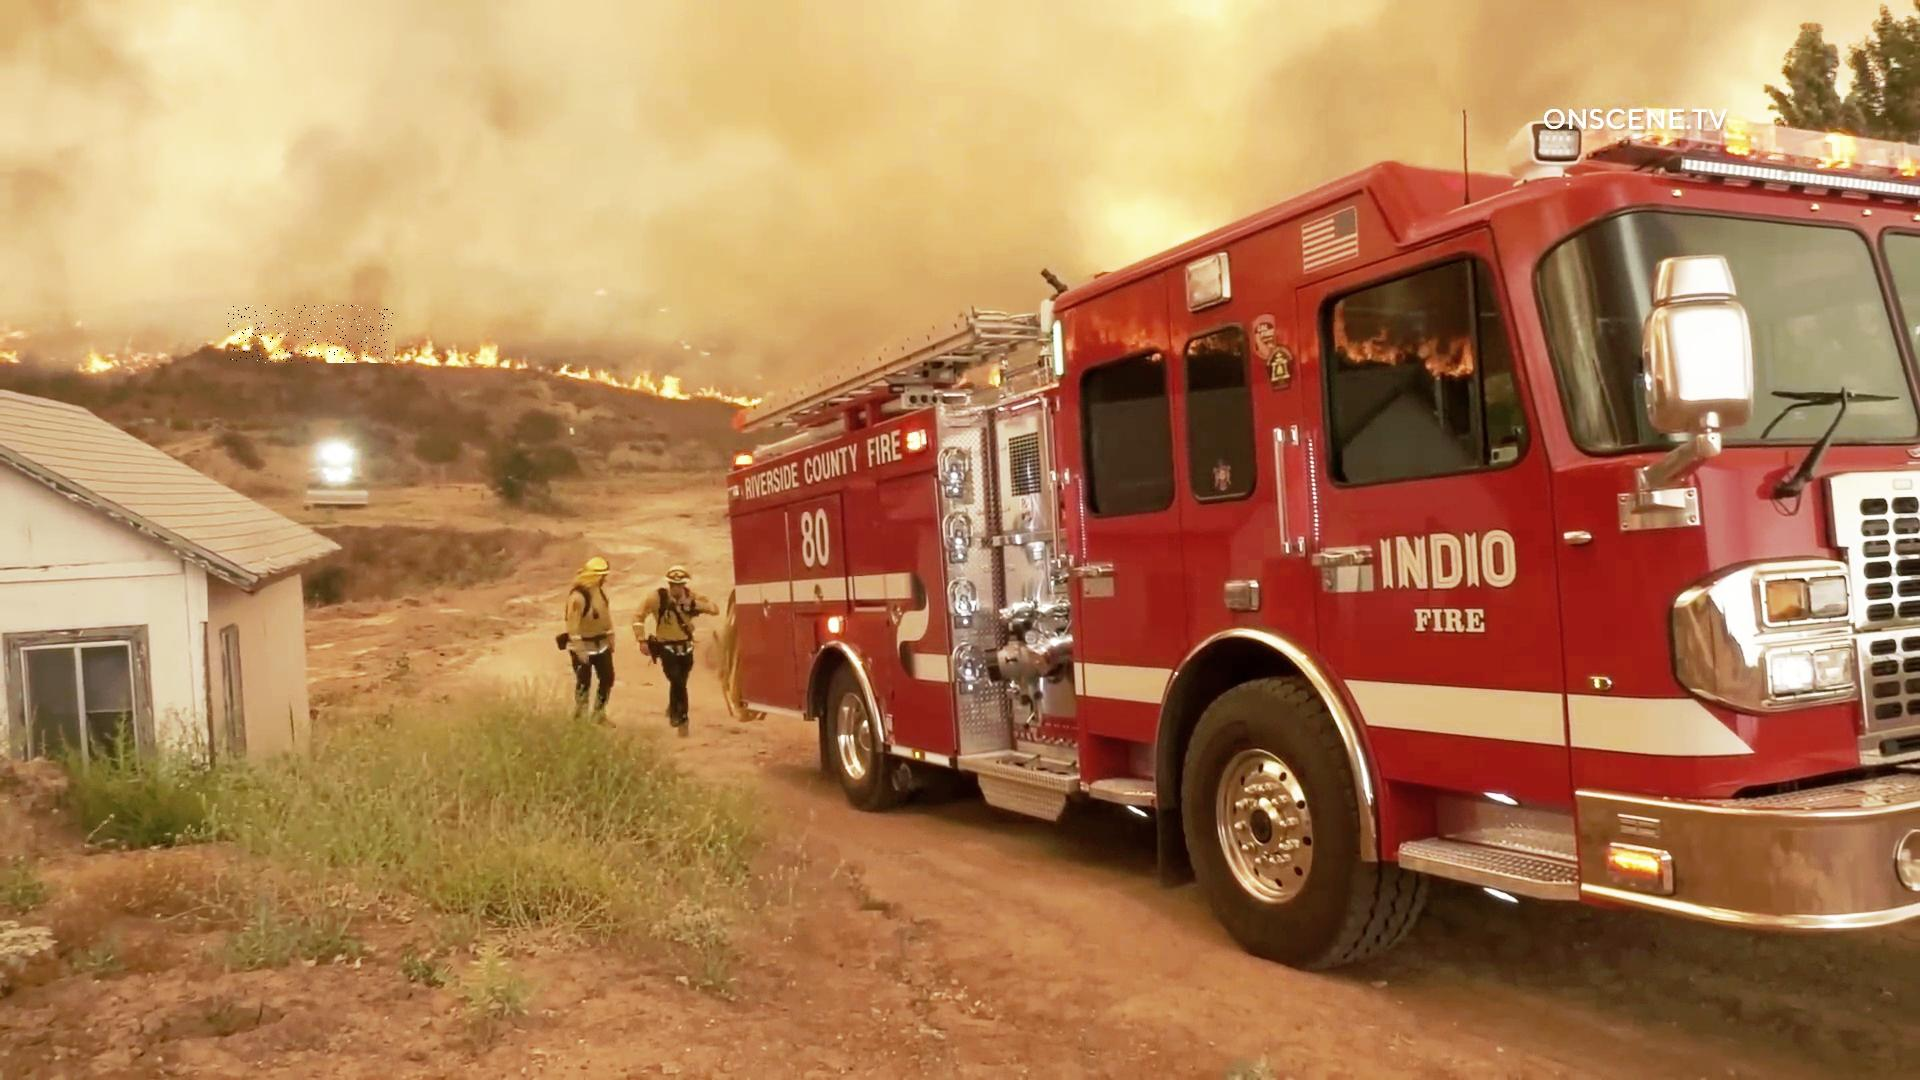fire: (228, 305, 396, 363)
